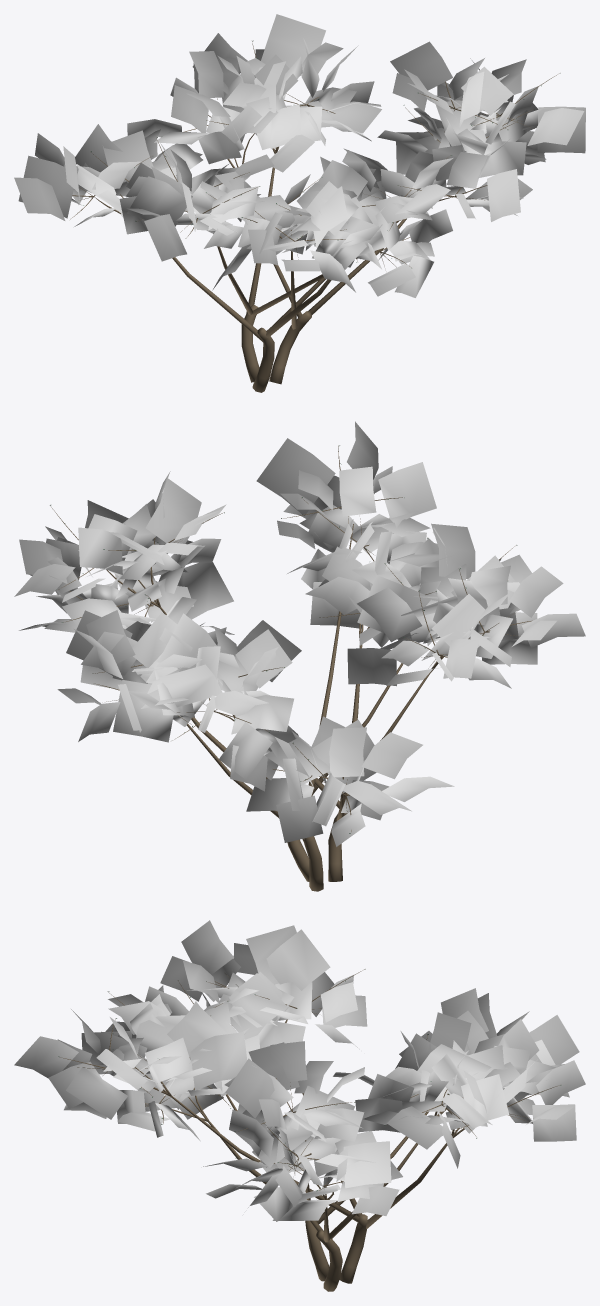
The model's file is V7_Genevrier_1_Niveau0.fbx.
3 renders of one model, top to bottom at view 1: azimuth 30°, elevation 25°; view 2: azimuth 150°, elevation 25°; view 3: azimuth 270°, elevation 25°, orthographic. The views are drawn at different scales.
Parts seen in each view (by area): view 1: V7_Genevrier_1; view 2: V7_Genevrier_1; view 3: V7_Genevrier_1.
Part boxes in pixels (x1,y1,x2,y2): V7_Genevrier_1: [14, 14, 585, 392]; V7_Genevrier_1: [14, 421, 585, 891]; V7_Genevrier_1: [14, 920, 585, 1291].
Size of the model in its own units: 331 by 207 by 339.
